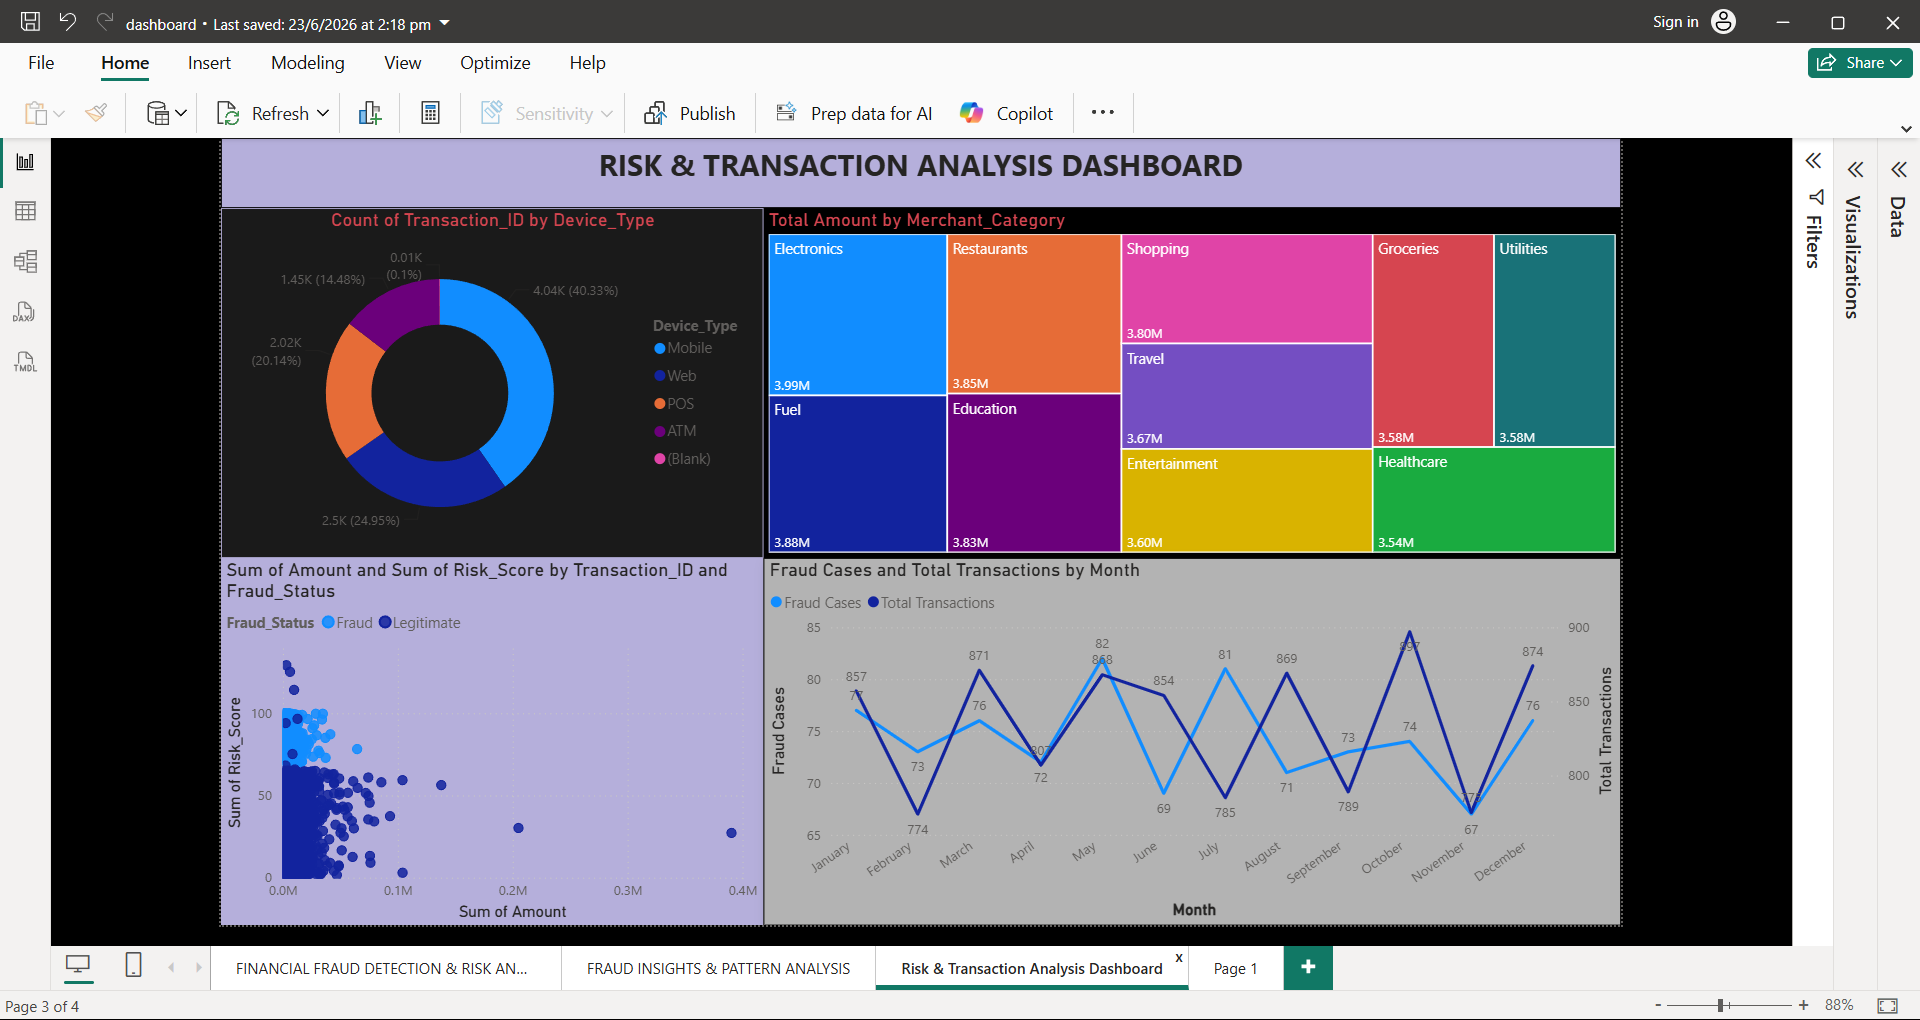

This screenshot's page, from the dashboard's own definition file:
{"tool":"powerbi","page":{"name":"Risk & Transaction Analysis Dashboard","canvas":[1280,720],"ordinal":2},"visuals":[{"type":"textbox","box":[0,0,1280,64],"z":0},{"type":"treemap","fields":{"Group":["vw_FraudAnalysis.Merchant_Category"],"Values":["vw_FraudAnalysis.Total Amount"]},"box":[496,64,784,320],"z":1},{"type":"donutChart","fields":{"Category":["vw_FraudAnalysis.Device_Type"],"Y":["CountNonNull(vw_FraudAnalysis.Transaction_ID)"]},"box":[0,64,496,320],"z":2},{"type":"scatterChart","fields":{"X":["Sum(vw_FraudAnalysis.Amount)"],"Y":["Sum(vw_FraudAnalysis.Risk_Score)"],"Series":["vw_FraudAnalysis.Fraud_Status"],"Category":["vw_FraudAnalysis.Transaction_ID"]},"box":[0,384,496,336],"z":3},{"type":"lineChart","fields":{"Category":["vw_FraudAnalysis.Transaction_Date.Variation.Date Hierarchy.Month"],"Y":["vw_FraudAnalysis.Fraud Cases"],"Y2":["vw_FraudAnalysis.Total Transactions"]},"box":[496,384,784,336],"z":4}]}

Visuals, with their boxes on the page's 1280x720 design canvas (x1, y1, x2, y2). These are canvas units, not pixel positions in the 1920x1020 screenshot, which may show the page scaled, cropped or inside an application window:
textbox: {"left": 0, "top": 0, "right": 1280, "bottom": 64}
treemap - vw_FraudAnalysis.Merchant_Category x vw_FraudAnalysis.Total Amount: {"left": 496, "top": 64, "right": 1280, "bottom": 384}
donutChart - vw_FraudAnalysis.Device_Type x CountNonNull(vw_FraudAnalysis.Transaction_ID): {"left": 0, "top": 64, "right": 496, "bottom": 384}
scatterChart - Sum(vw_FraudAnalysis.Amount) x Sum(vw_FraudAnalysis.Risk_Score): {"left": 0, "top": 384, "right": 496, "bottom": 720}
lineChart - vw_FraudAnalysis.Transaction_Date.Variation.Date Hierarchy.Month x vw_FraudAnalysis.Fraud Cases: {"left": 496, "top": 384, "right": 1280, "bottom": 720}
